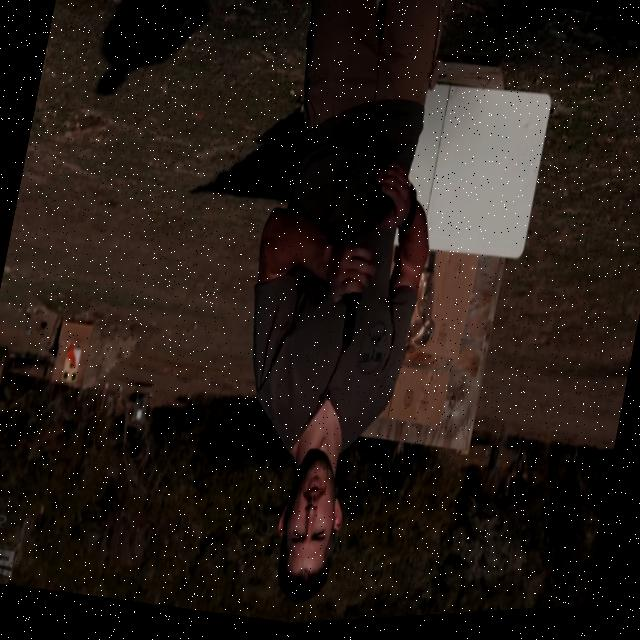knife: (332, 286, 368, 367)
